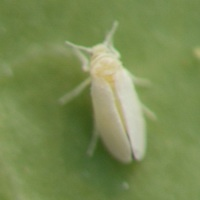insect: (60, 21, 148, 162)
